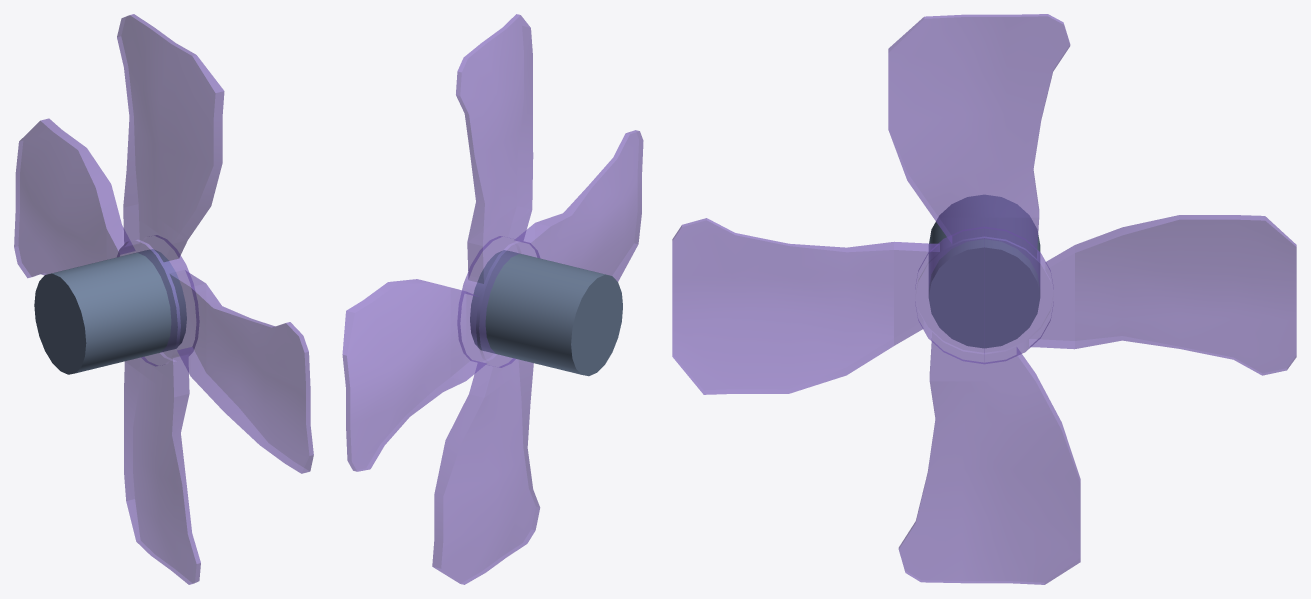
The model's file is hane.fbx.
3 renders of one model, left to right at view 1: azimuth 30°, elevation 25°; view 2: azimuth 150°, elevation 25°; view 3: azimuth 270°, elevation 25°, orthographic. The views are drawn at different scales.
Visible parts, largest first — view 1: pCube5, pCylinder3; view 2: pCube5, pCylinder3; view 3: pCube5, pCylinder3.
Boxes of the visible parts, <box> form: pCube5: <box>14,14,313,584</box>; pCylinder3: <box>34,249,186,374</box>; pCube5: <box>342,14,643,584</box>; pCylinder3: <box>470,250,622,376</box>; pCube5: <box>672,14,1296,584</box>; pCylinder3: <box>928,195,1040,348</box>.
Size of the model in its own units: 2.66 by 11.2 by 11.2.
